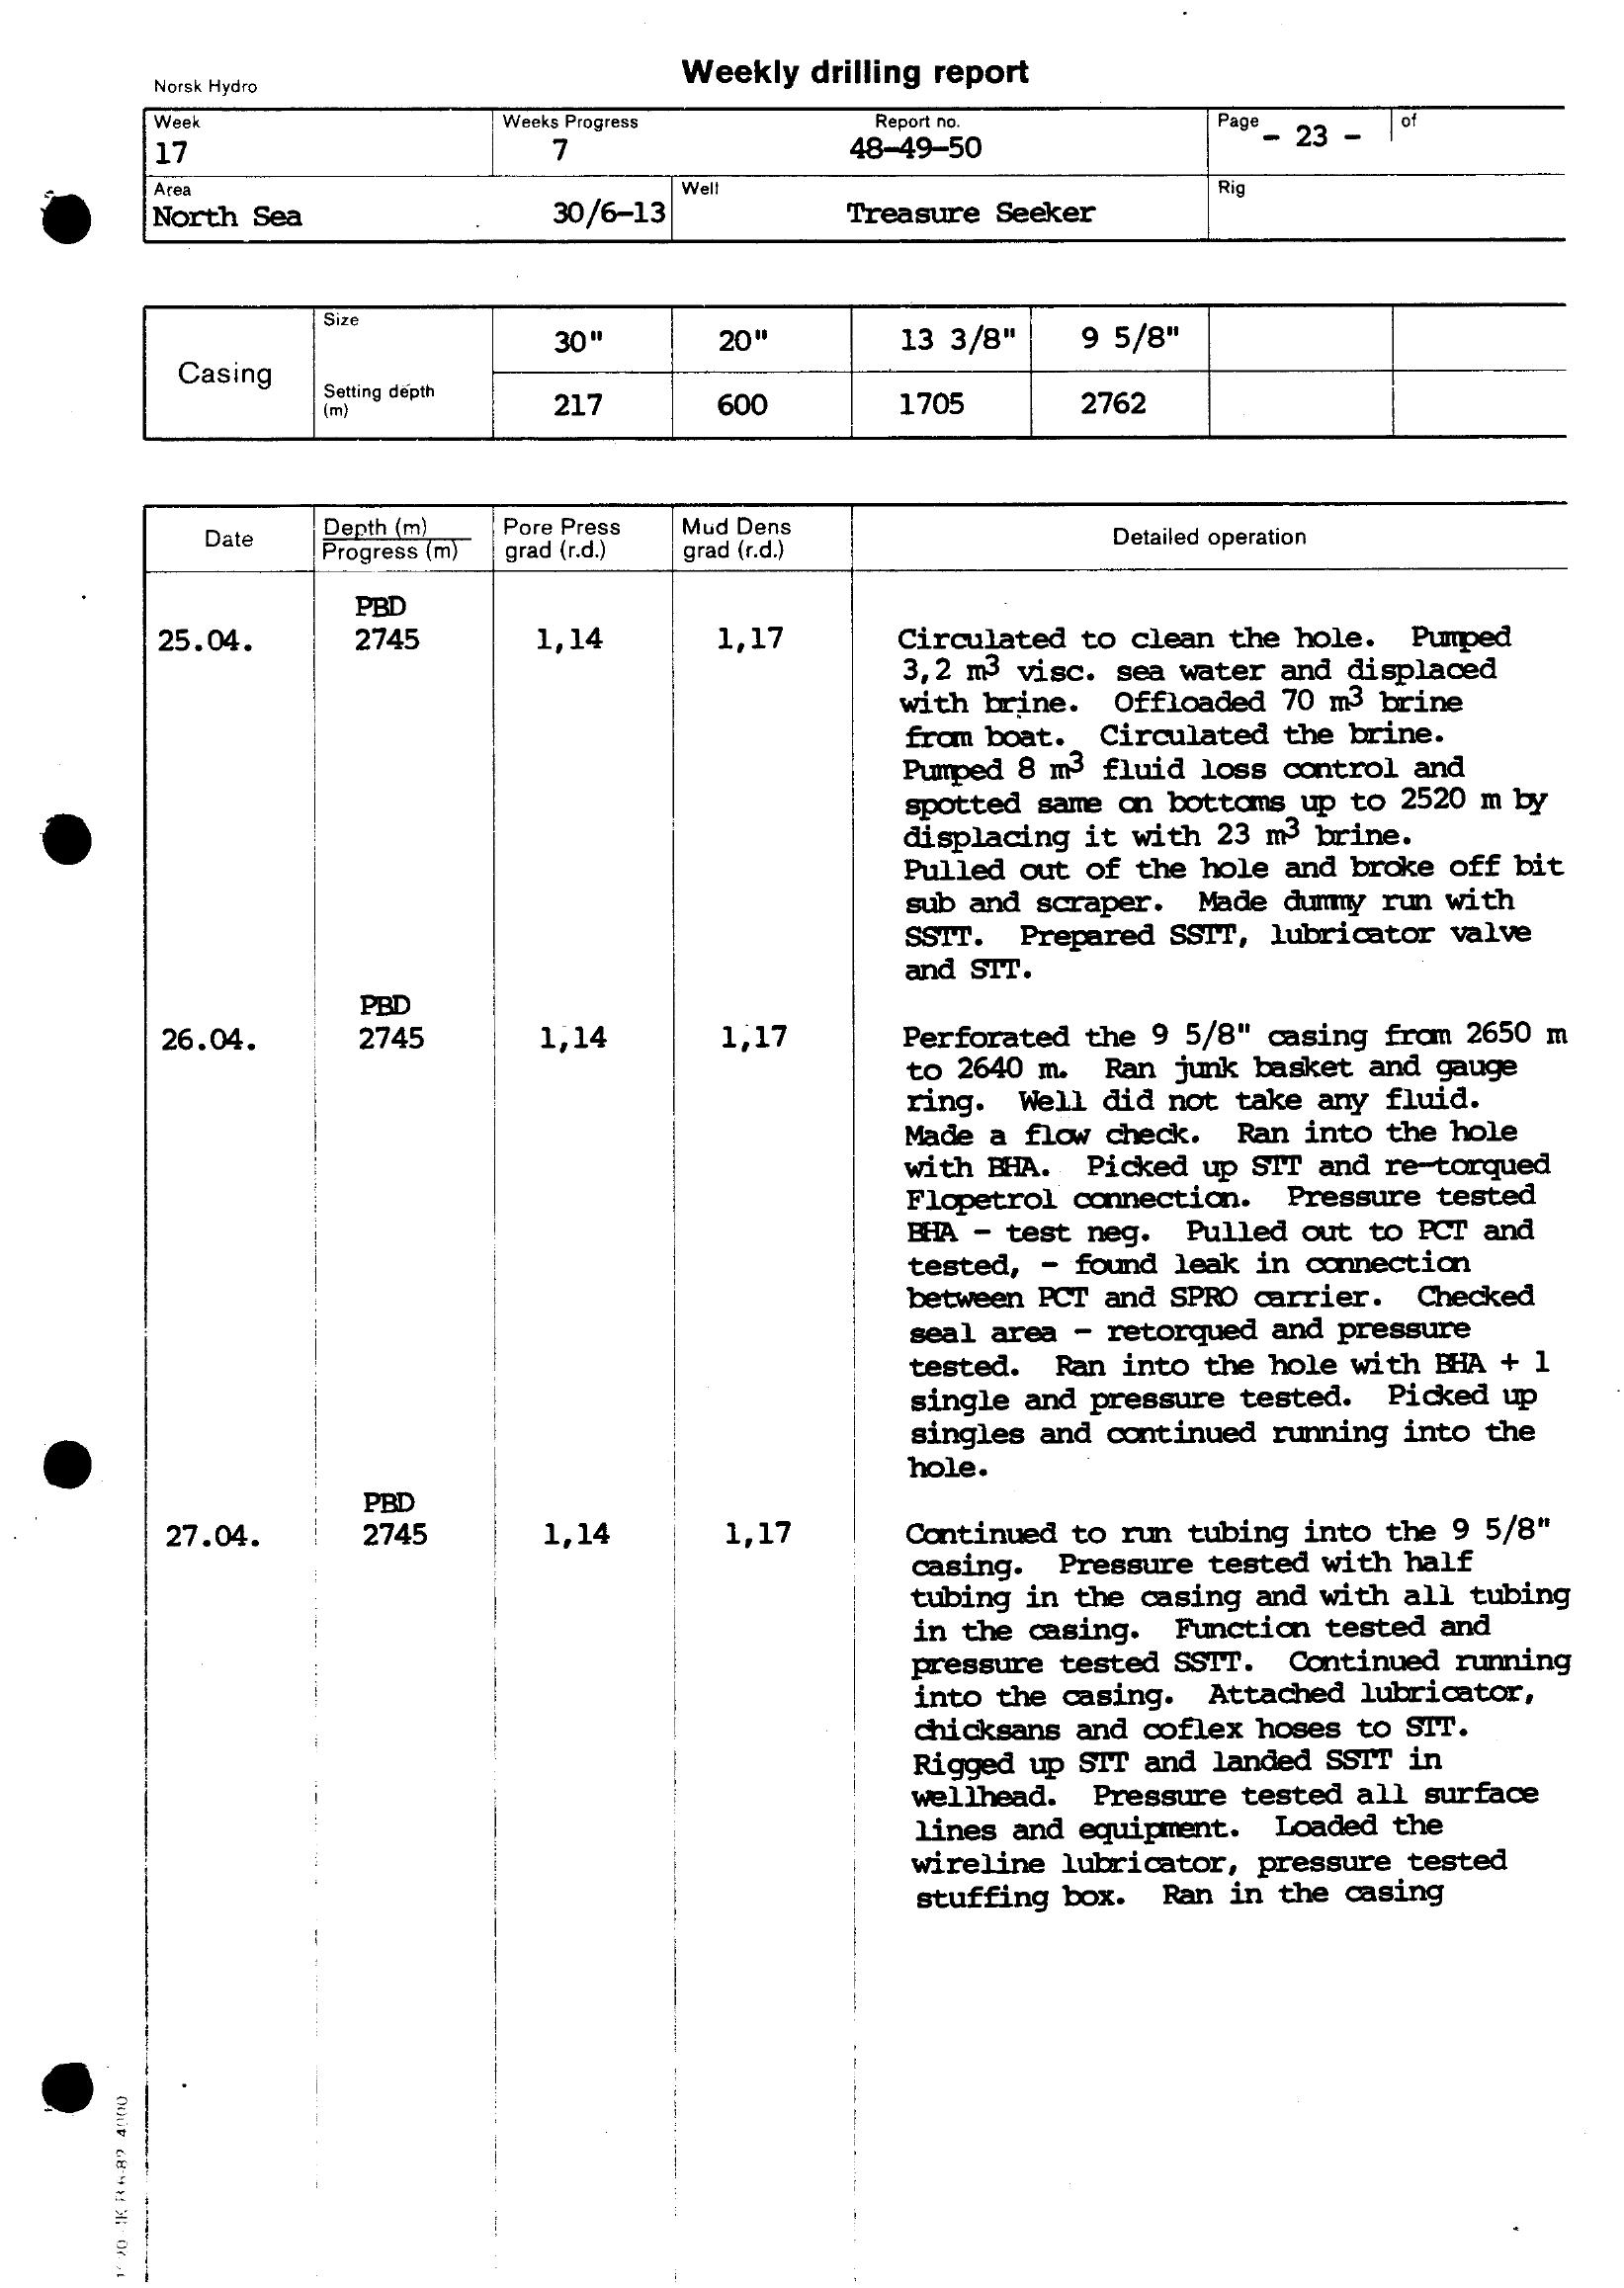graph: (144, 104, 1624, 1991)
text: (668, 32, 1039, 109)
